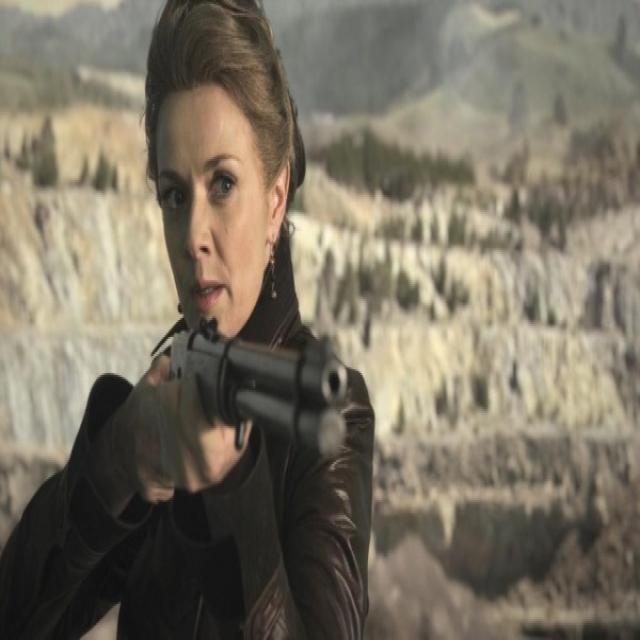rifle: (168, 315, 357, 468)
